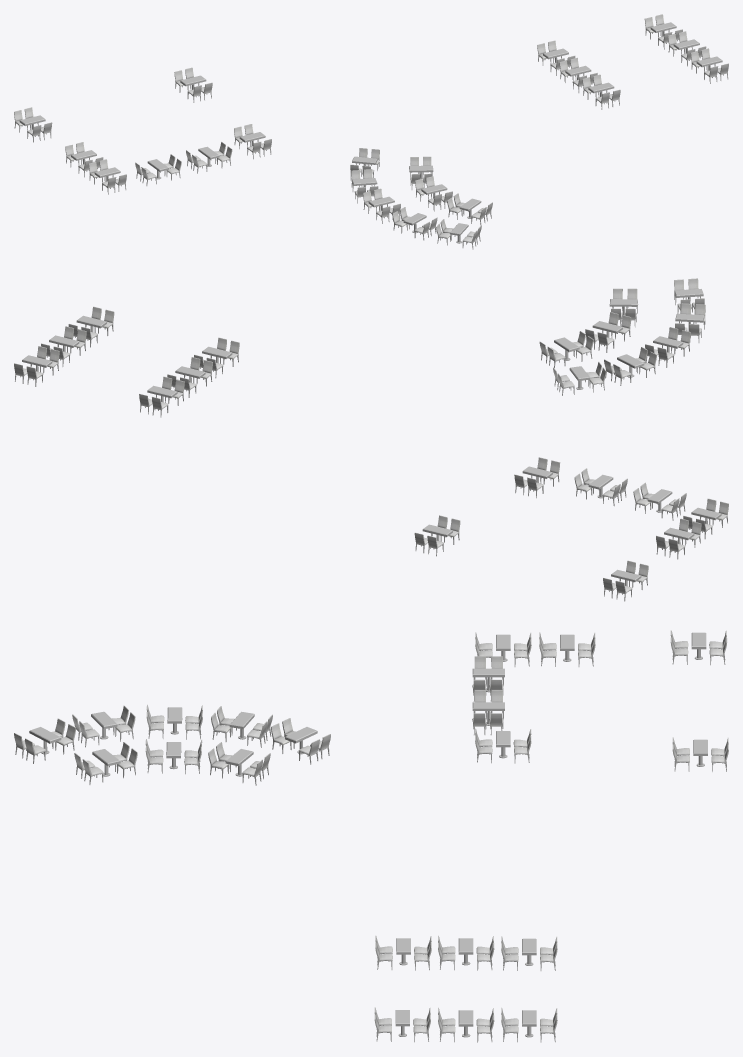
The model's file is table-4people.fbx.
3 views of the same model, one above another, from view 1: azimuth 30°, elevation 25°; view 2: azimuth 150°, elevation 25°; view 3: azimuth 270°, elevation 25° (orthographic). The views are drawn at different scales.
Bounding box in the file's own units: 7467 × 460 × 5767.
